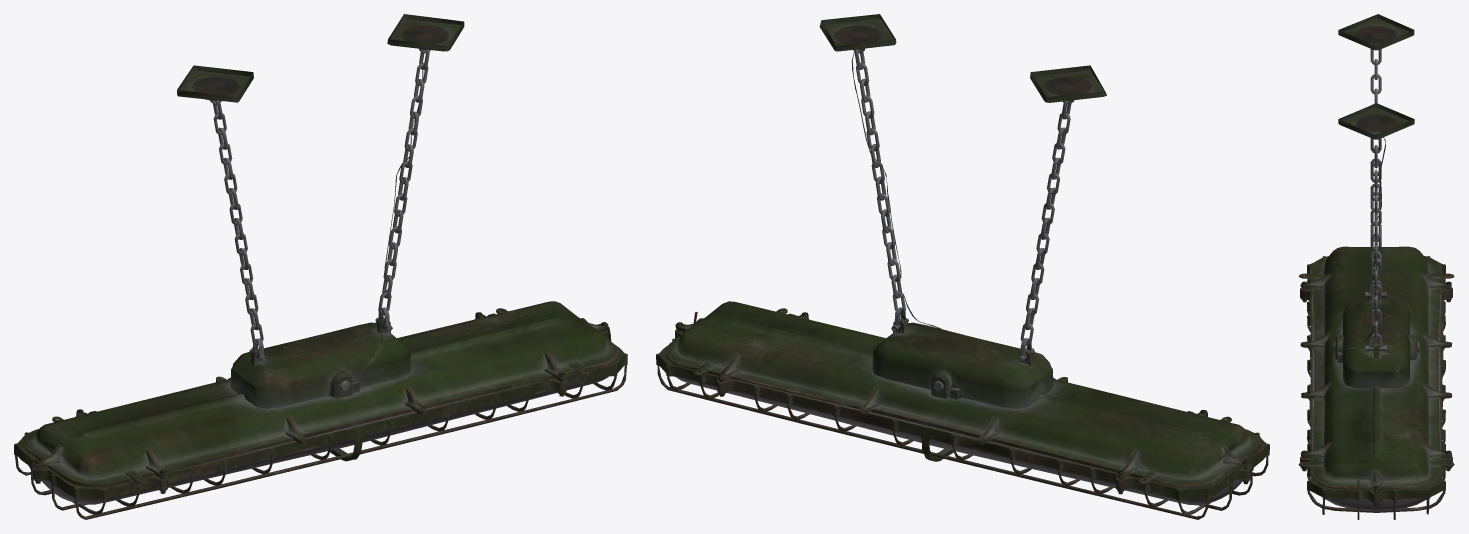
File: caged_hanging_light.glb
3 views of the same model, side by side, from view 1: azimuth 30°, elevation 25°; view 2: azimuth 150°, elevation 25°; view 3: azimuth 270°, elevation 25° (orthographic). The views are drawn at different scales.
Visible parts, largest first — view 1: caged_hanging_light; view 2: caged_hanging_light; view 3: caged_hanging_light.
Part boxes in pixels (x1,y1,x2,y2): caged_hanging_light: (14,14,627,519); caged_hanging_light: (656,14,1269,519); caged_hanging_light: (1298,14,1454,519).
Size of the model in its own units: 1.16 by 0.7501 by 0.3149.
Materials: 1 (1 with a texture image).
